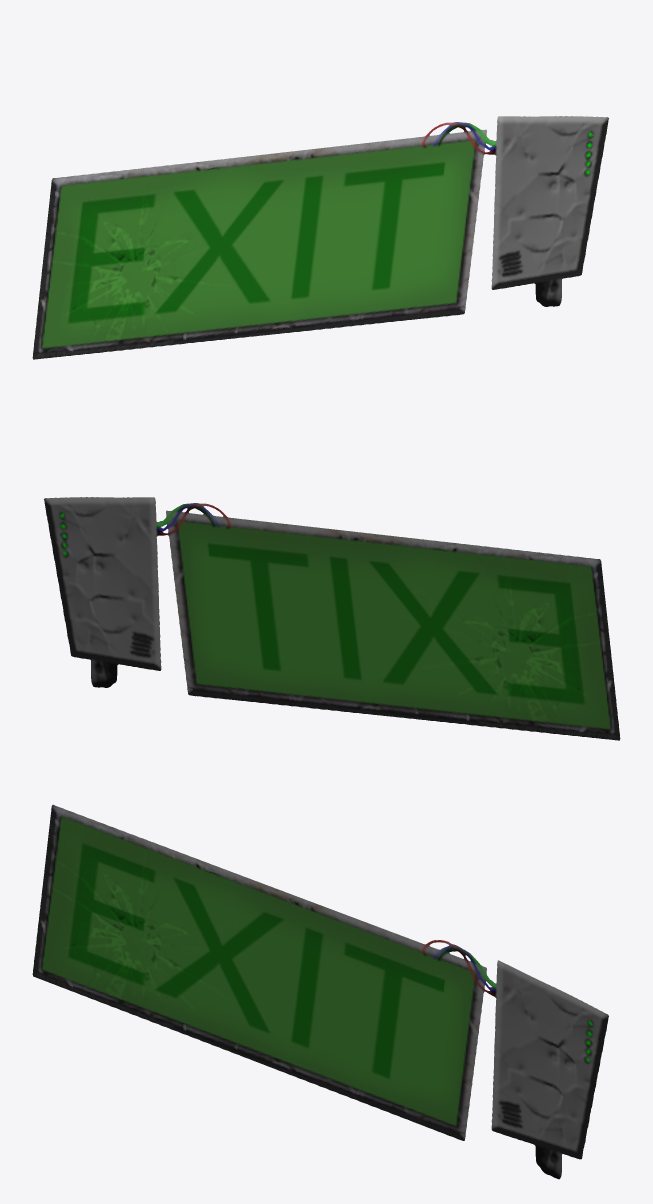
File: CanExitPlane.FBX
3 views of the same model, one above another, from view 1: azimuth 30°, elevation 25°; view 2: azimuth 150°, elevation 25°; view 3: azimuth 330°, elevation 25° (orthographic).
Visible parts, largest first — view 1: ExitPlane; view 2: ExitPlane; view 3: ExitPlane.
Boxes of the visible parts, x1,y1,x2,y2 form: ExitPlane: (32, 116, 608, 359); ExitPlane: (44, 497, 620, 740); ExitPlane: (32, 804, 608, 1179).
Bounding box in the file's own units: 57.1 × 24.11 × 6.66e-15.
